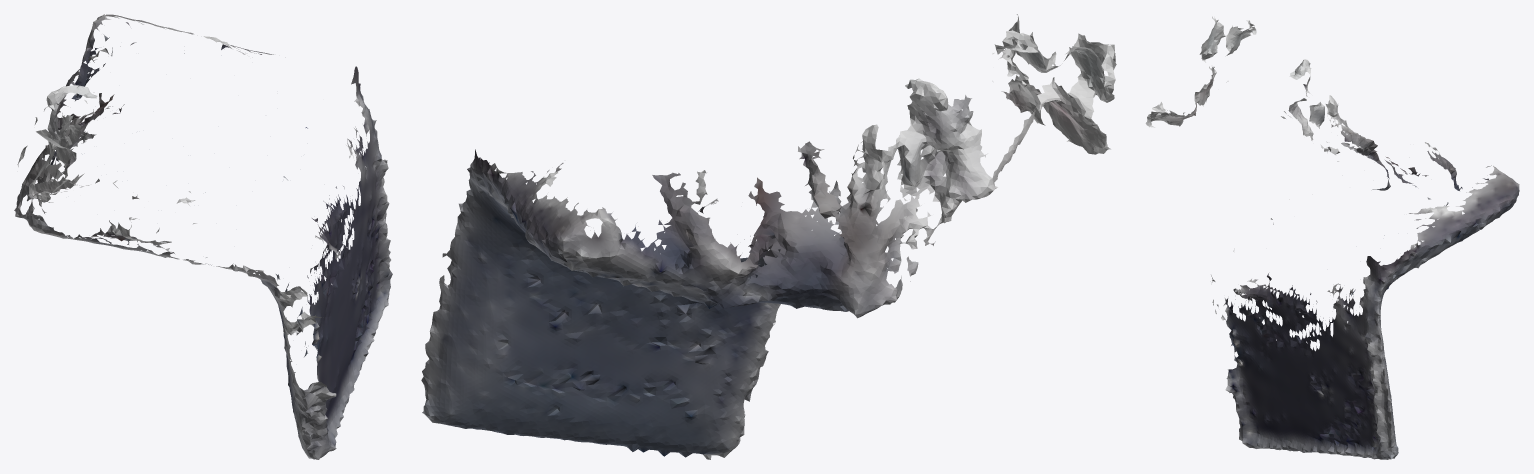
The model's file is super_clean.glb.
3 renders of one model, left to right at view 1: azimuth 30°, elevation 25°; view 2: azimuth 150°, elevation 25°; view 3: azimuth 270°, elevation 25°, orthographic. The views are drawn at different scales.
Parts seen in each view (by area): view 1: super_clean.ply; view 2: super_clean.ply; view 3: super_clean.ply.
Part boxes in pixels (<box>): super_clean.ply: <box>14,14,392,459</box>; super_clean.ply: <box>421,14,1116,459</box>; super_clean.ply: <box>1145,16,1519,459</box>.
Size of the model in its own units: 3.67 by 3.13 by 3.2.
